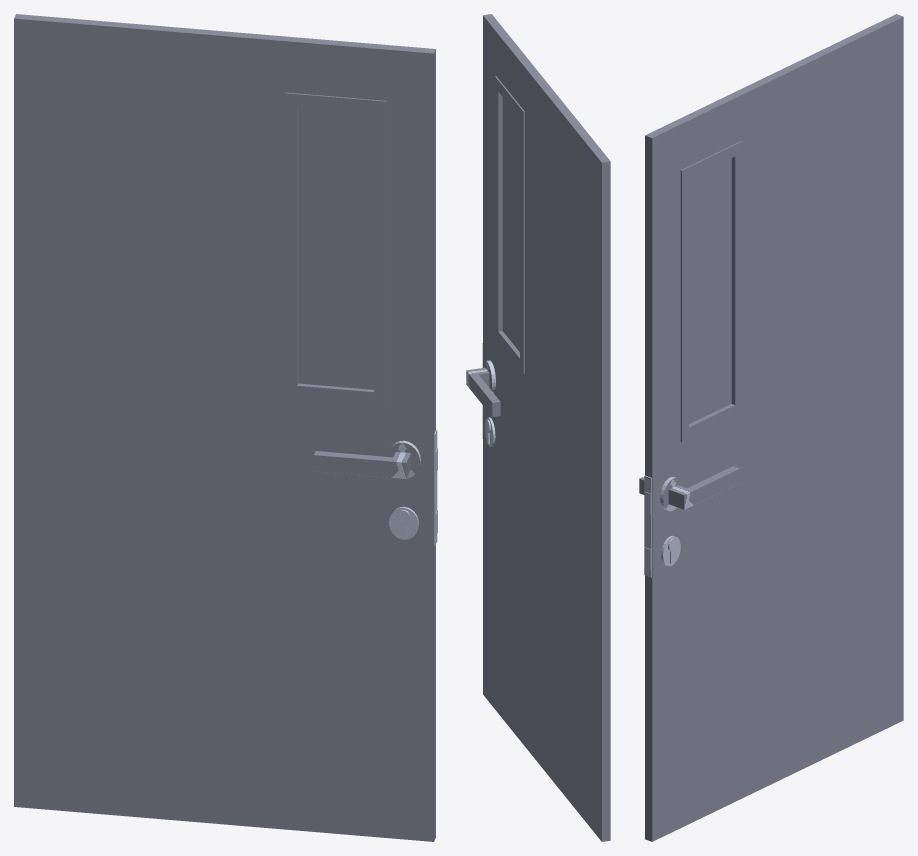
The model's file is Door.fbx.
3 renders of one model, left to right at view 1: azimuth 30°, elevation 25°; view 2: azimuth 150°, elevation 25°; view 3: azimuth 270°, elevation 25°, orthographic. The views are drawn at different scales.
Parts seen in each view (by area): view 1: Door_Glasses_0.001_Baked; view 2: Door_Glasses_0.001_Baked; view 3: Door_Glasses_0.001_Baked.
Part boxes in pixels (<box>): Door_Glasses_0.001_Baked: <box>14,14,437,841</box>; Door_Glasses_0.001_Baked: <box>466,14,610,841</box>; Door_Glasses_0.001_Baked: <box>639,14,903,841</box>.
Size of the model in its own units: 1.65 by 4.33 by 1.48.
Materials: 1 (1 with a texture image).
